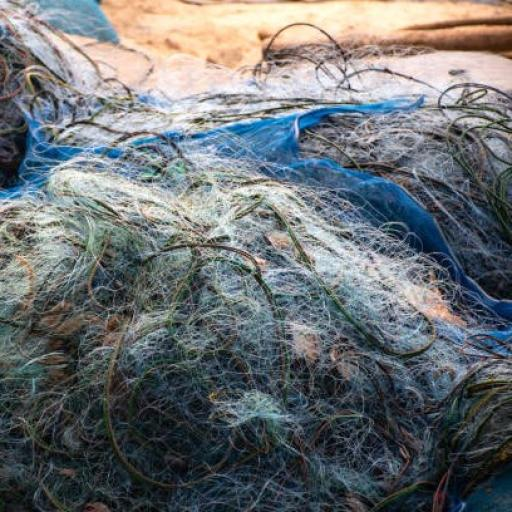net: (0, 130, 509, 506), (45, 53, 512, 162), (0, 2, 115, 186)
